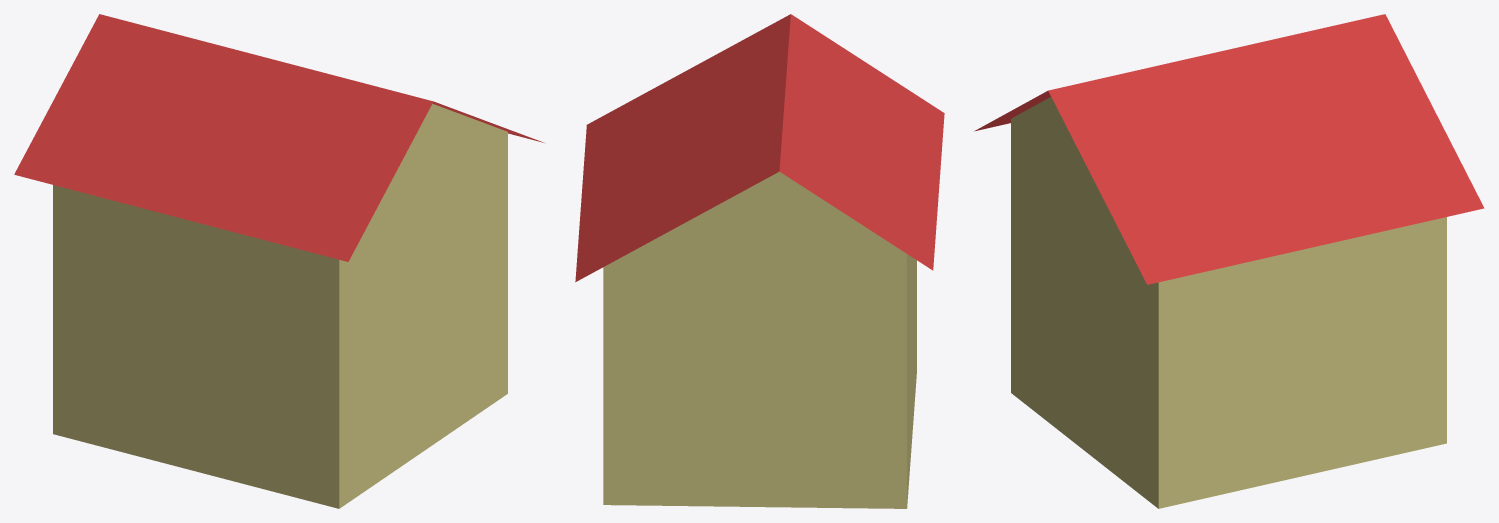
3 views of the same model, side by side, from view 1: azimuth 30°, elevation 25°; view 2: azimuth 150°, elevation 25°; view 3: azimuth 270°, elevation 25° (orthographic). The views are drawn at different scales.
Bounding box in the file's own units: 13.69 × 13.86 × 10.66.
